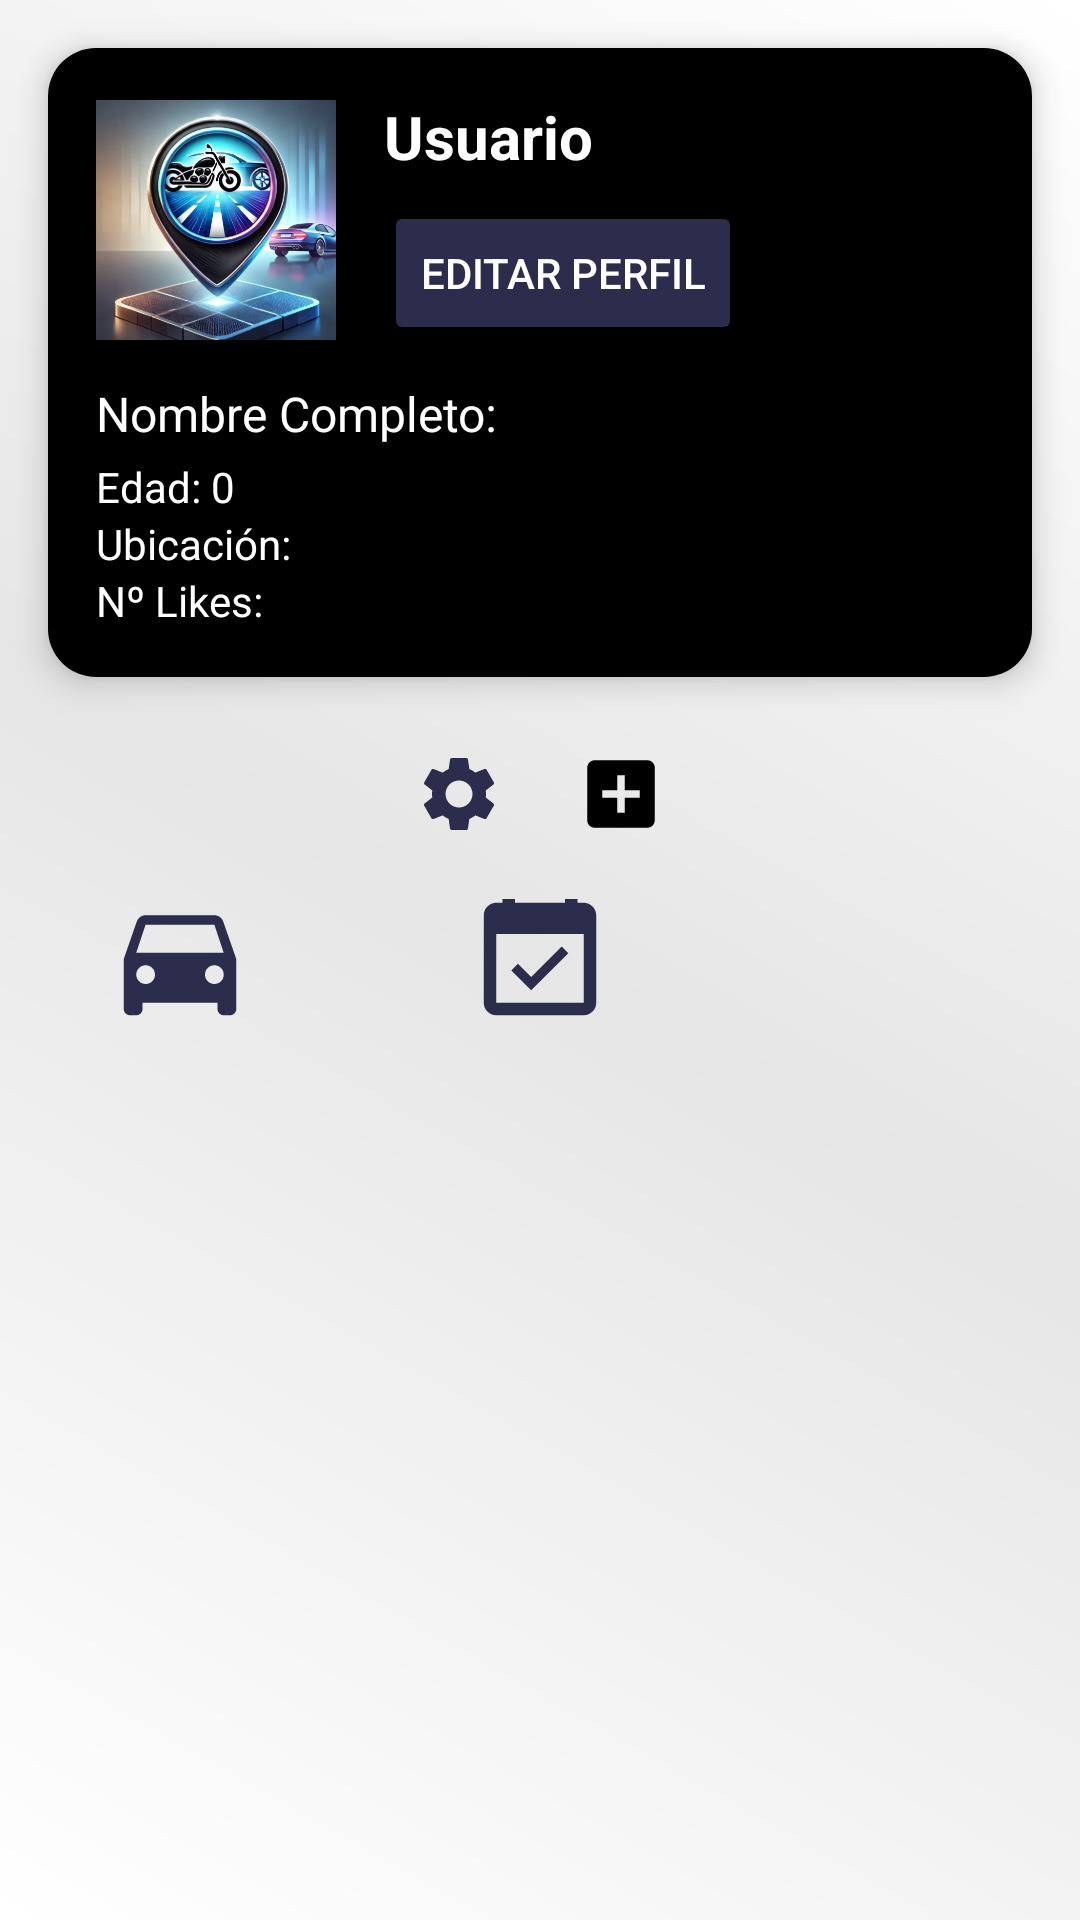

Icon click points for this 1080*1920 phone screenshot, format [x,y]:
Agregar vehículo: [621,794]
Ajustes: [459,794]
Eventos Creados: [540,957]
Mis Coches: [180,965]
